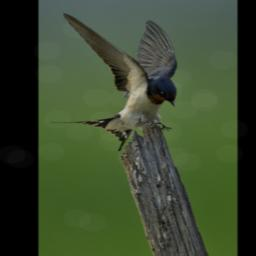Swallow: (50, 9, 178, 150)
